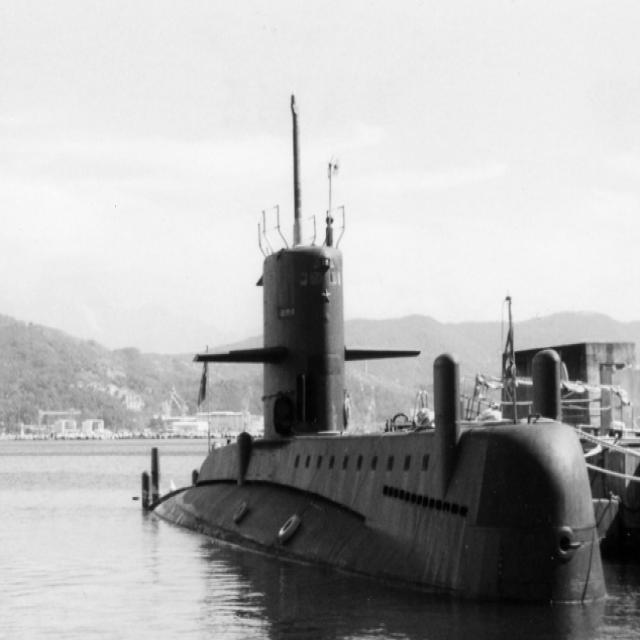submarine: (141, 93, 618, 606)
